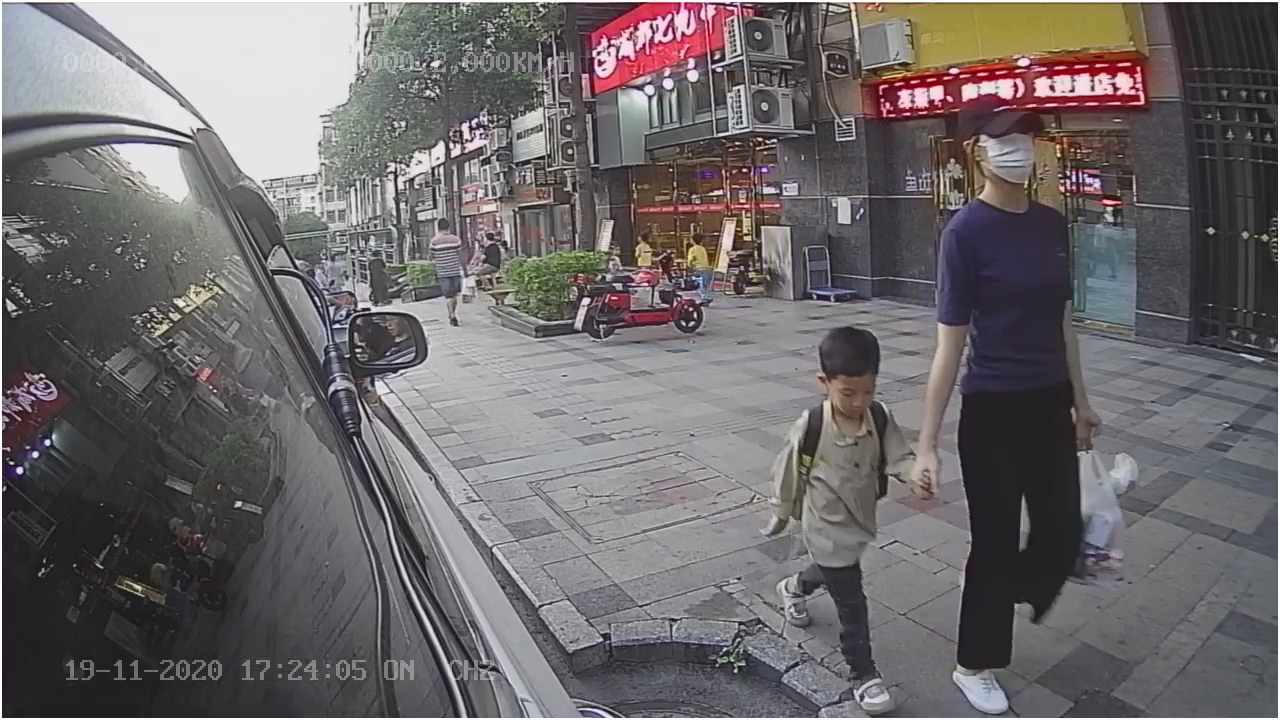person: (910, 94, 1107, 715), (763, 320, 921, 715), (427, 215, 472, 331)
